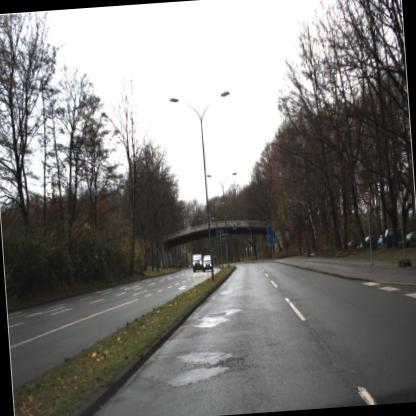prohibitory: (358, 184, 374, 207)
